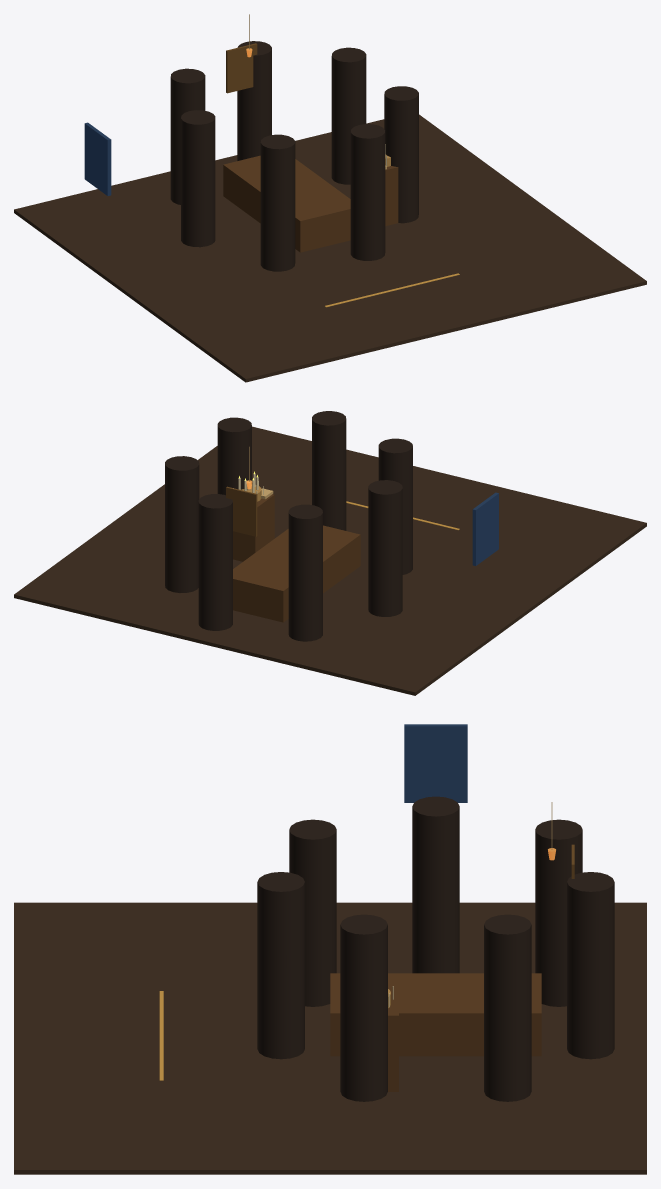
File: sacrament-unction.glb
The picture shows the model from 3 angles, top to bottom: view 1: azimuth 30°, elevation 25°; view 2: azimuth 150°, elevation 25°; view 3: azimuth 270°, elevation 25°; orthographic projection. The views are drawn at different scales.
Visible parts, largest first — view 1: floor, priest-figure (×7), bed, window, icon-board, table; view 2: floor, priest-figure (×7), bed, window, table, icon-board; view 3: floor, priest-figure (×7), bed, window, table.
Boxes of the visible parts, x1,y1,x2,y2 form: floor: (14,114,646,382); priest-figure (×7): (170,41,418,271); bed: (223,155,350,252); window: (84,122,111,195); icon-board: (226,43,257,93); table: (385,166,398,226); floor: (14,426,646,695); priest-figure (×7): (165,411,412,641); bed: (233,525,360,622); window: (472,492,498,565); table: (233,494,274,561); icon-board: (226,486,257,536); floor: (14,902,646,1174); priest-figure (×7): (257,796,614,1101); bed: (330,973,541,1056); window: (404,724,467,802); table: (388,993,398,1091).
Bounding box in the file's own units: 6 × 2.5 × 6.
